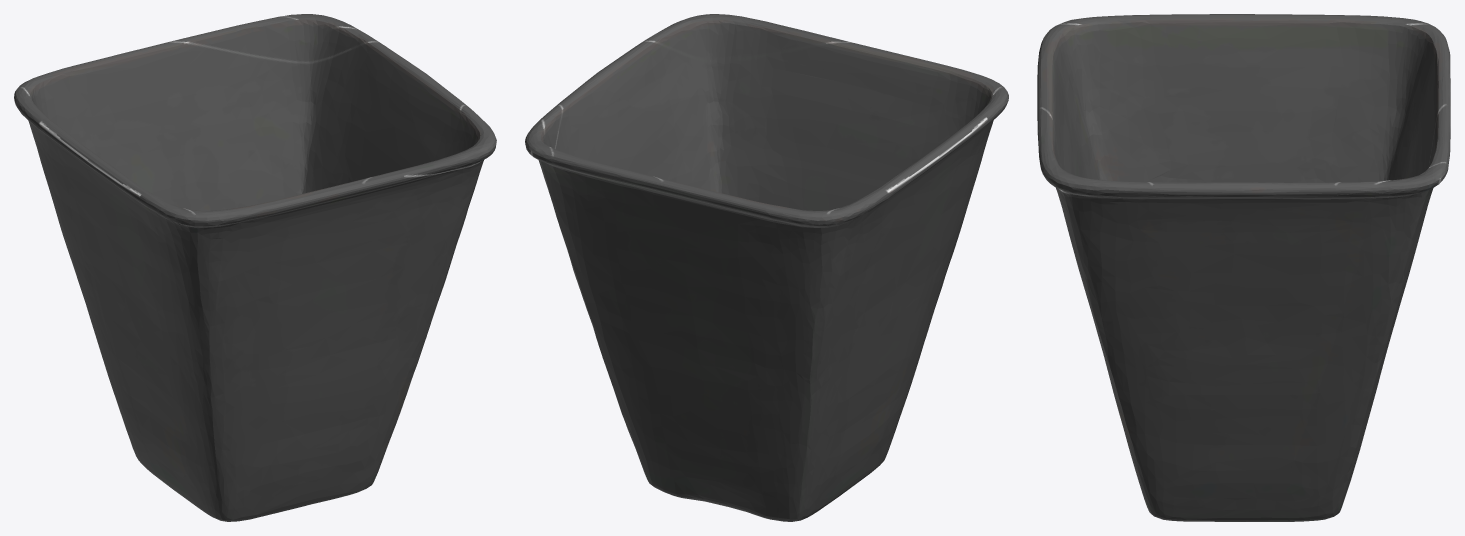
The picture shows the model from 3 angles, left to right: view 1: azimuth 30°, elevation 25°; view 2: azimuth 150°, elevation 25°; view 3: azimuth 270°, elevation 25°; orthographic projection. The views are drawn at different scales.
Visible parts, largest first — view 1: flower_pot_13.obj; view 2: flower_pot_13.obj; view 3: flower_pot_13.obj.
Boxes of the visible parts, box(x1,y1,x2,y2) form: flower_pot_13.obj: box(14, 14, 496, 521); flower_pot_13.obj: box(525, 14, 1008, 521); flower_pot_13.obj: box(1037, 14, 1450, 521).
Size of the model in its own units: 0.2062 by 0.2133 by 0.2038.
1 material, 1 textured.
